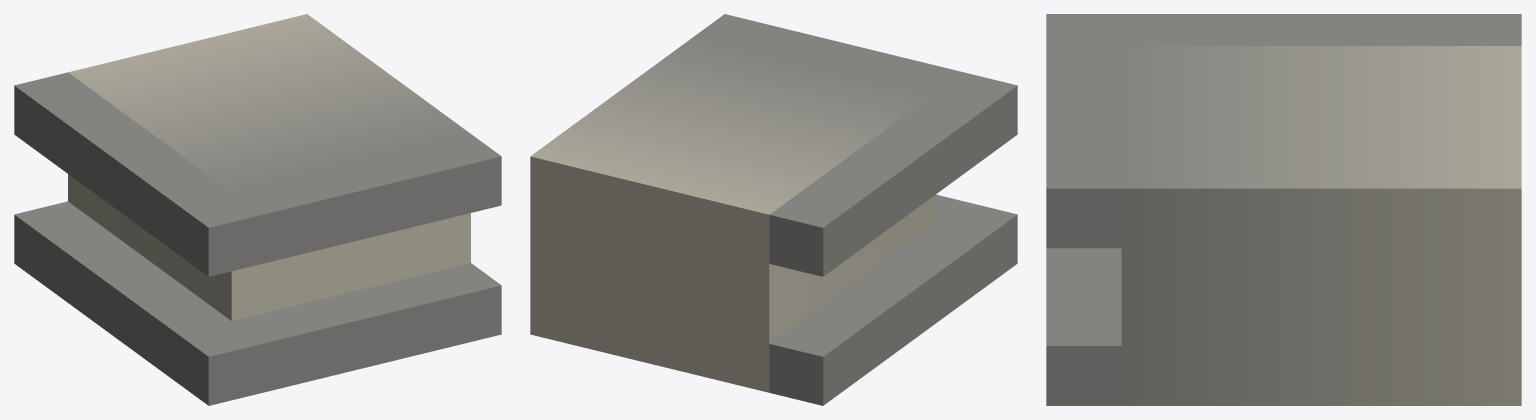
The model's file is B02_intersection_etage_corner_5.fbx.
3 views of the same model, side by side, from view 1: azimuth 30°, elevation 25°; view 2: azimuth 150°, elevation 25°; view 3: azimuth 270°, elevation 25° (orthographic). The views are drawn at different scales.
Visible parts, largest first — view 1: B02_intersection_etage_corner_5; view 2: B02_intersection_etage_corner_5; view 3: B02_intersection_etage_corner_5.
Part boxes in pixels (x1,y1,x2,y2): B02_intersection_etage_corner_5: (14, 14, 501, 405); B02_intersection_etage_corner_5: (530, 14, 1017, 405); B02_intersection_etage_corner_5: (1046, 14, 1521, 405).
Bounding box in the file's own units: 91.86 × 53.36 × 106.
